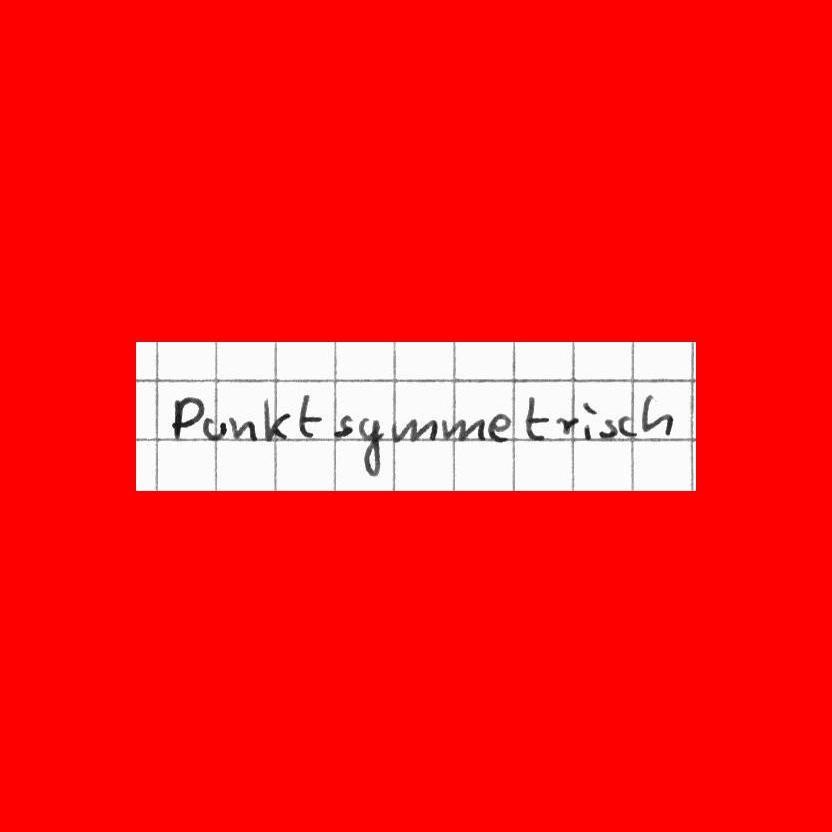Char: (171, 394, 203, 444), (639, 389, 673, 436), (357, 415, 382, 478), (388, 414, 437, 444), (522, 394, 549, 442), (443, 413, 484, 442), (297, 394, 321, 440), (264, 402, 290, 442), (229, 412, 259, 441), (487, 411, 512, 444), (581, 401, 596, 441), (201, 417, 227, 440), (332, 412, 354, 439), (555, 413, 578, 436), (617, 414, 639, 438), (598, 414, 616, 443)
